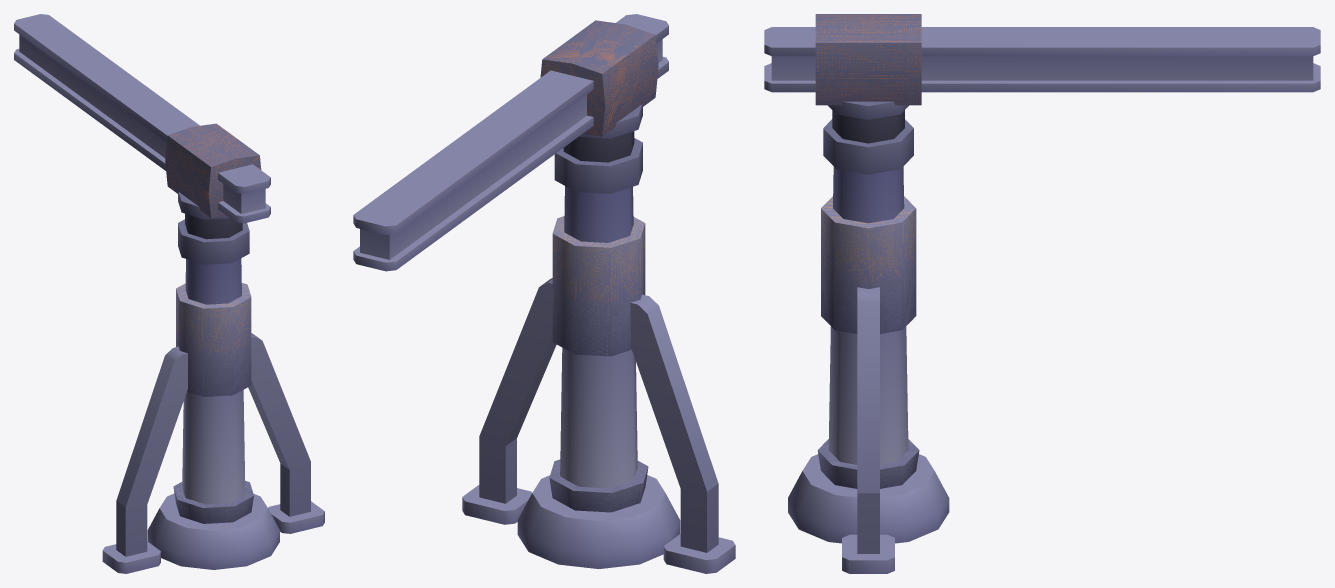
Rendered from kenney-factory-crane.glb.
3 renders of one model, left to right at view 1: azimuth 30°, elevation 25°; view 2: azimuth 150°, elevation 25°; view 3: azimuth 270°, elevation 25°, orthographic. The views are drawn at different scales.
Visible parts, largest first — view 1: crane, arm; view 2: crane, arm; view 3: crane, arm.
Boxes of the visible parts, x1,y1,x2,y2 form: crane: [102, 213, 324, 573]; arm: [14, 14, 270, 223]; crane: [462, 131, 735, 573]; arm: [353, 14, 668, 271]; crane: [788, 110, 949, 573]; arm: [764, 14, 1320, 119].
Size of the model in its own units: 2.89 by 5.33 by 5.52.
1 material, 1 textured.
